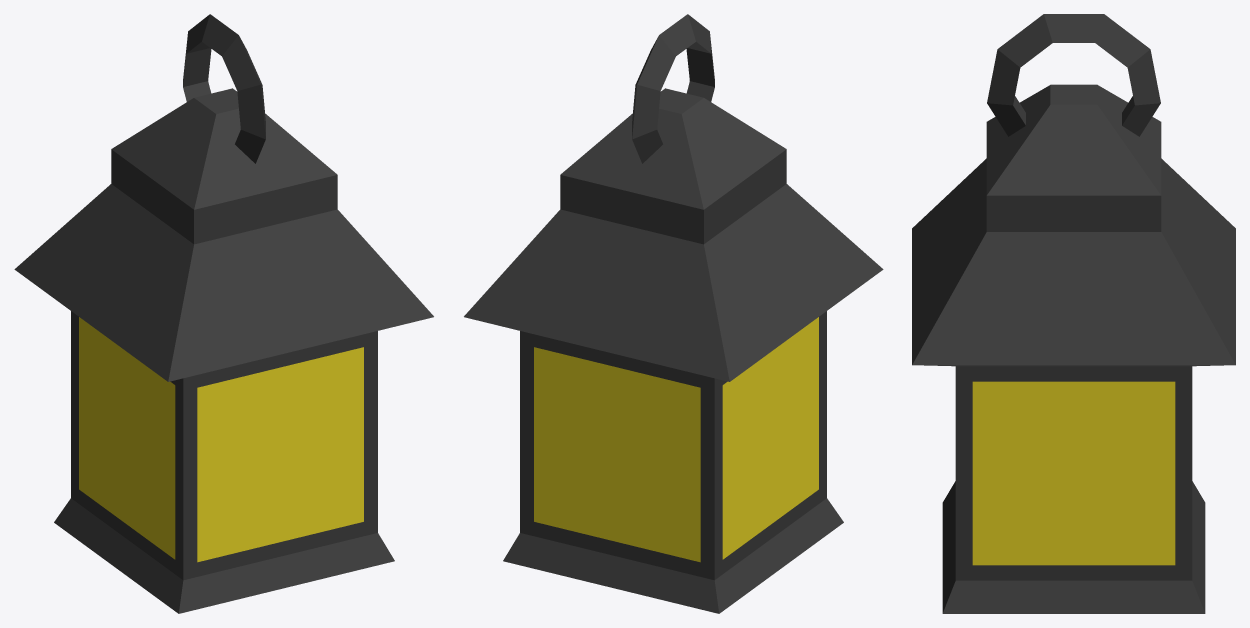
Rendered from lantern.fbx.
3 views of the same model, side by side, from view 1: azimuth 30°, elevation 25°; view 2: azimuth 150°, elevation 25°; view 3: azimuth 270°, elevation 25° (orthographic). The views are drawn at different scales.
Parts seen in each view (by area): view 1: Lantern; view 2: Lantern; view 3: Lantern.
Boxes of the visible parts, left/top/right/bottom form: Lantern: left=14, top=14, right=433, bottom=613; Lantern: left=464, top=14, right=883, bottom=613; Lantern: left=912, top=14, right=1235, bottom=613.
Size of the model in its own units: 274 by 508 by 274.
